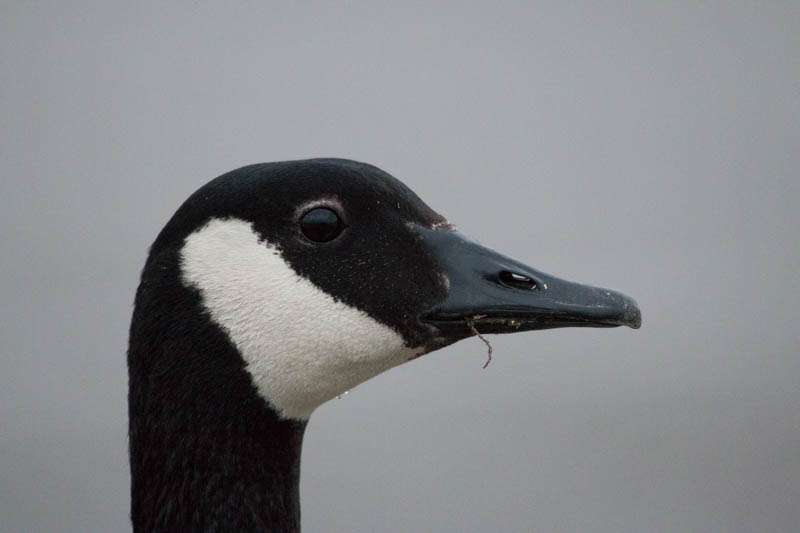goose-head: (127, 159, 643, 422)
